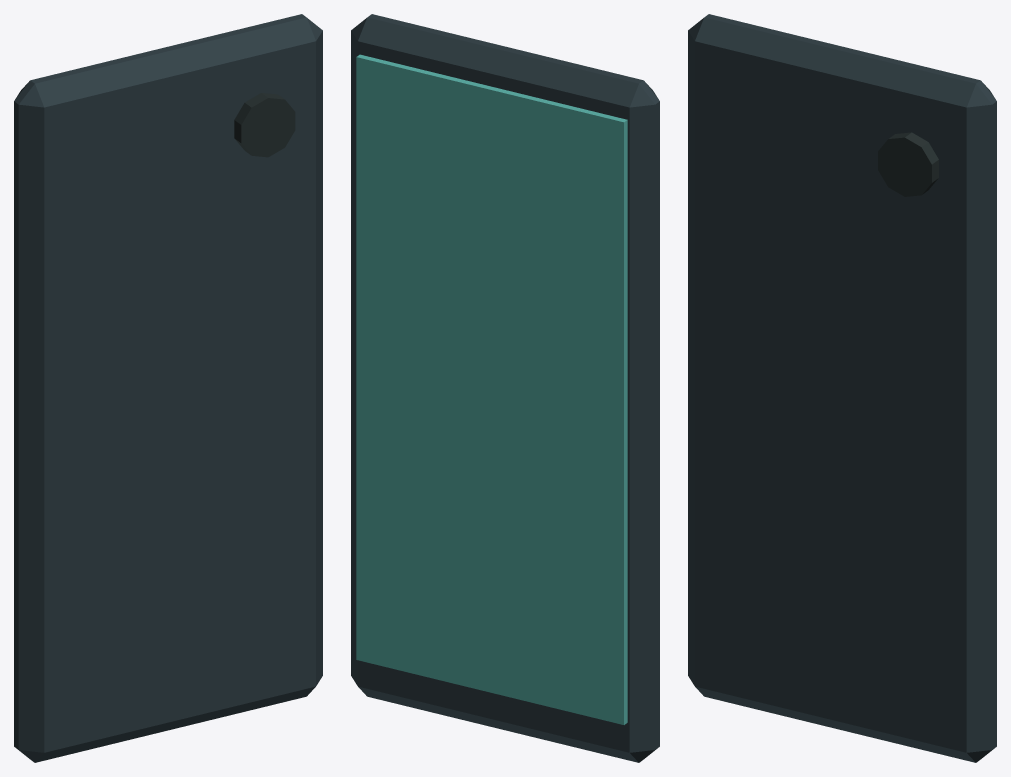
Rendered from sm_prop_phone.glb.
3 views of the same model, side by side, from view 1: azimuth 30°, elevation 25°; view 2: azimuth 150°, elevation 25°; view 3: azimuth 330°, elevation 25° (orthographic).
Visible parts, largest first — view 1: PhoneBody, CameraLens; view 2: PhoneScreen, PhoneBody; view 3: PhoneBody, CameraLens.
Boxes of the visible parts, bbox=[...] form: PhoneBody: bbox=[14, 14, 322, 762]; CameraLens: bbox=[234, 93, 295, 157]; PhoneScreen: bbox=[356, 54, 627, 724]; PhoneBody: bbox=[351, 14, 659, 762]; PhoneBody: bbox=[688, 14, 996, 762]; CameraLens: bbox=[878, 132, 938, 196].
Size of the model in its own units: 0.075 by 0.16 by 0.0145.
